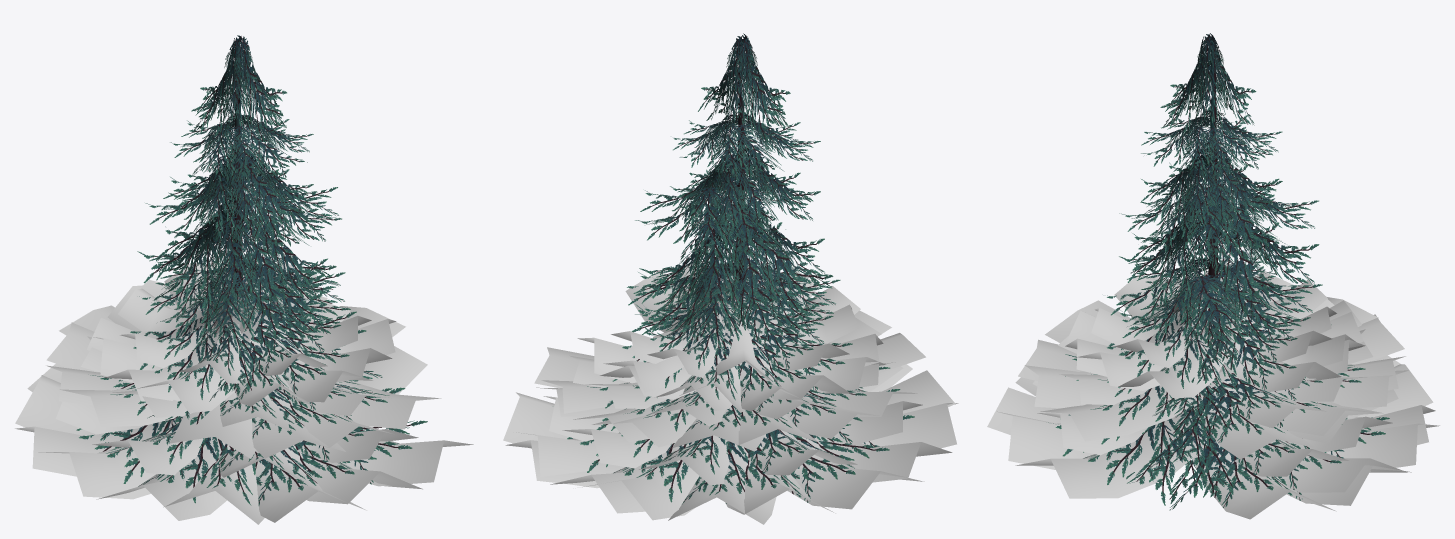
Rendered from basic tree 1.fbx.
3 renders of one model, left to right at view 1: azimuth 30°, elevation 25°; view 2: azimuth 150°, elevation 25°; view 3: azimuth 270°, elevation 25°, orthographic. The views are drawn at different scales.
Visible parts, largest first — view 1: pCylinder5; view 2: pCylinder5; view 3: pCylinder5.
Part boxes in pixels (x1,y1,x2,y2): pCylinder5: (15, 35, 473, 524); pCylinder5: (503, 33, 958, 524); pCylinder5: (987, 33, 1439, 519).
Size of the model in its own units: 1.64 by 1.73 by 1.64.
